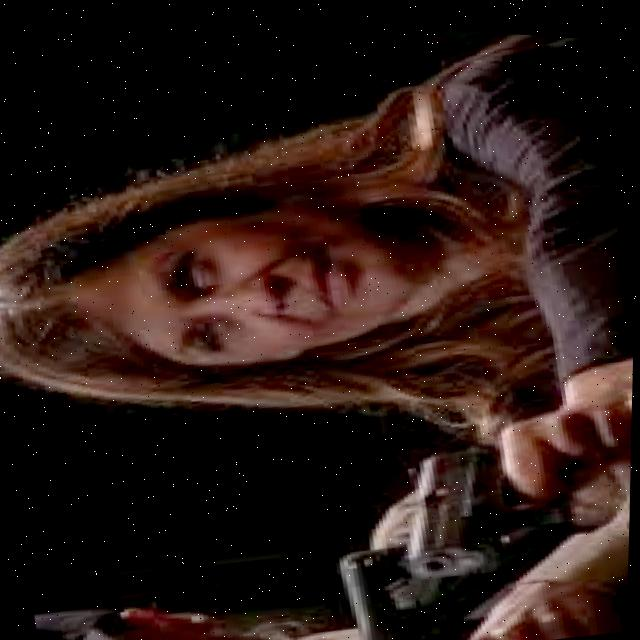pistol: (392, 426, 563, 581)
